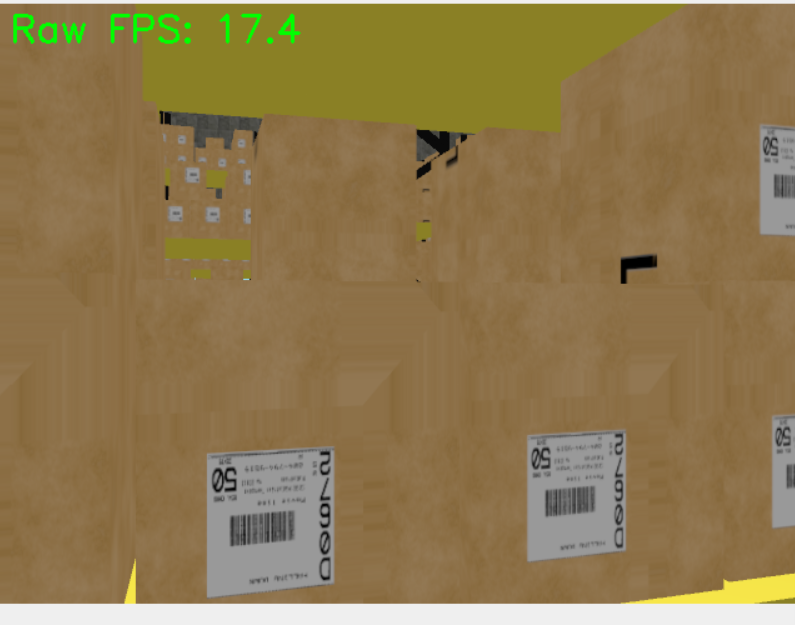barcode: (206, 447, 337, 597), (526, 429, 628, 561)
